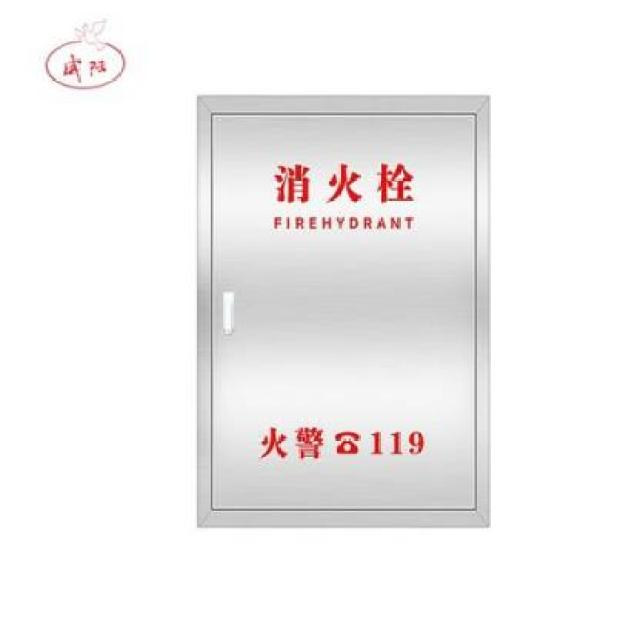firehydrant: (190, 88, 496, 534)
